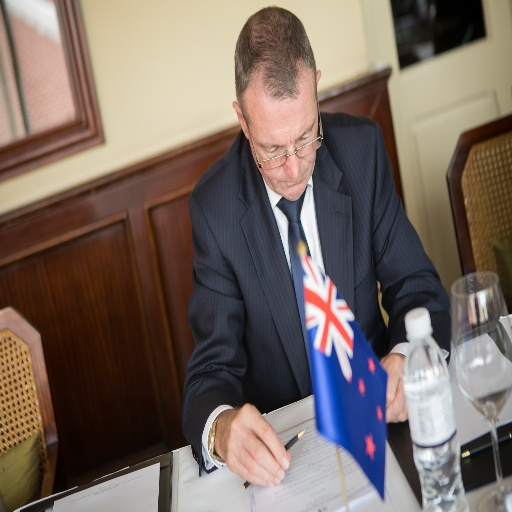hand: (208, 416, 304, 488), (378, 354, 410, 425)
